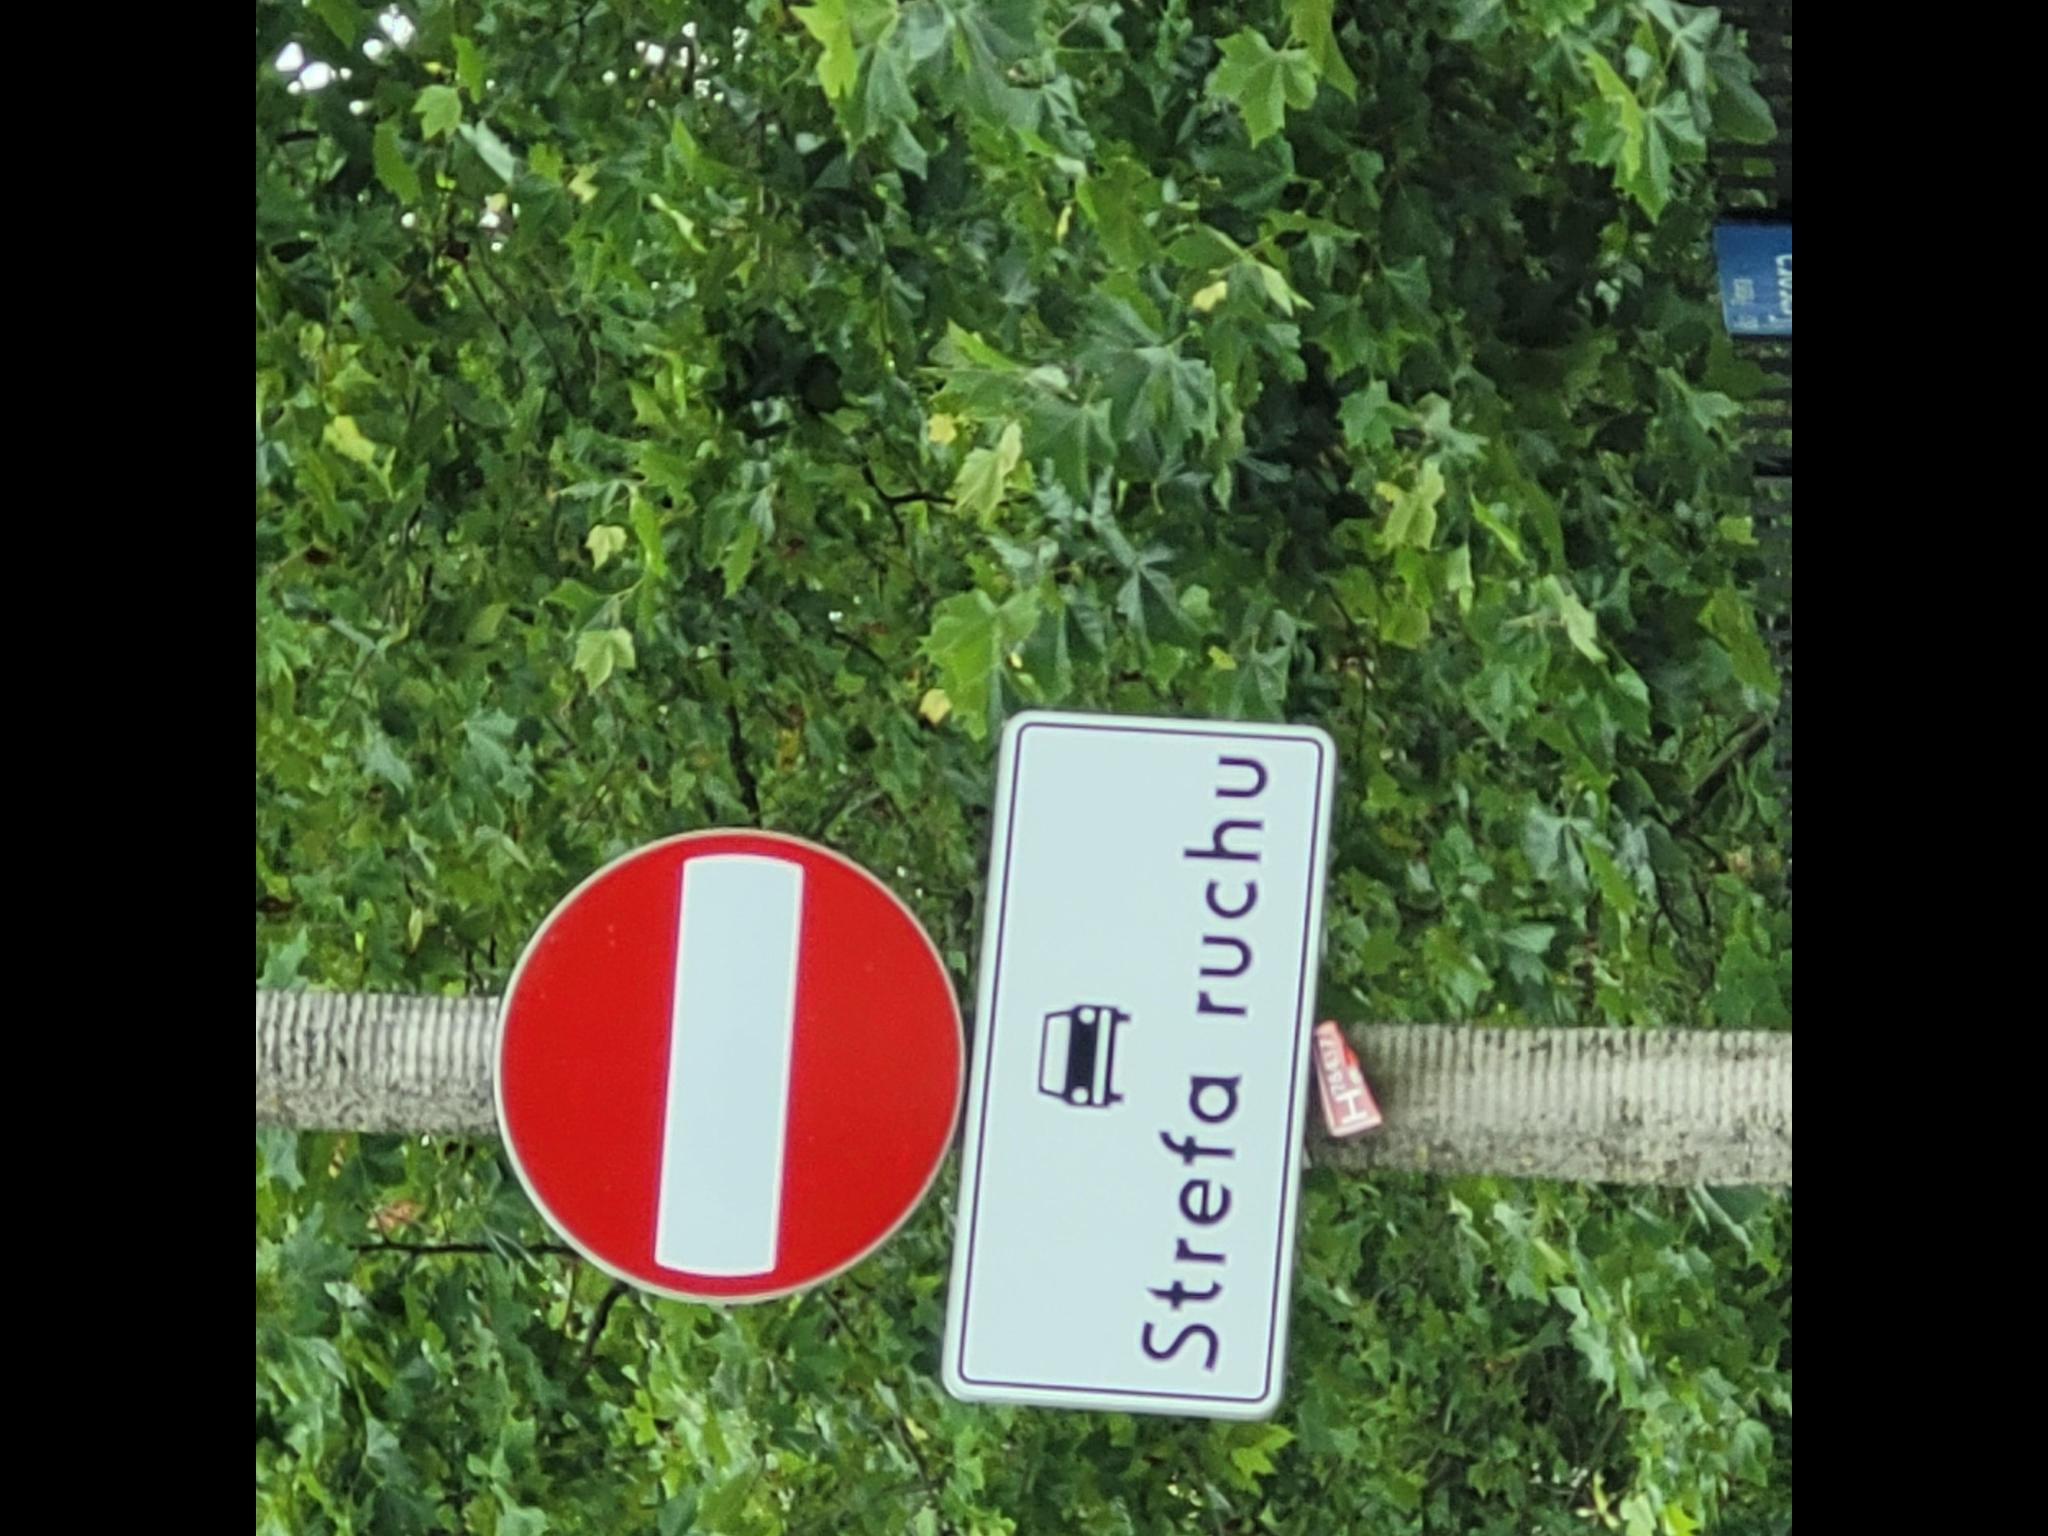information: (945, 705, 1335, 1418)
prohibitory: (490, 821, 966, 1307)
